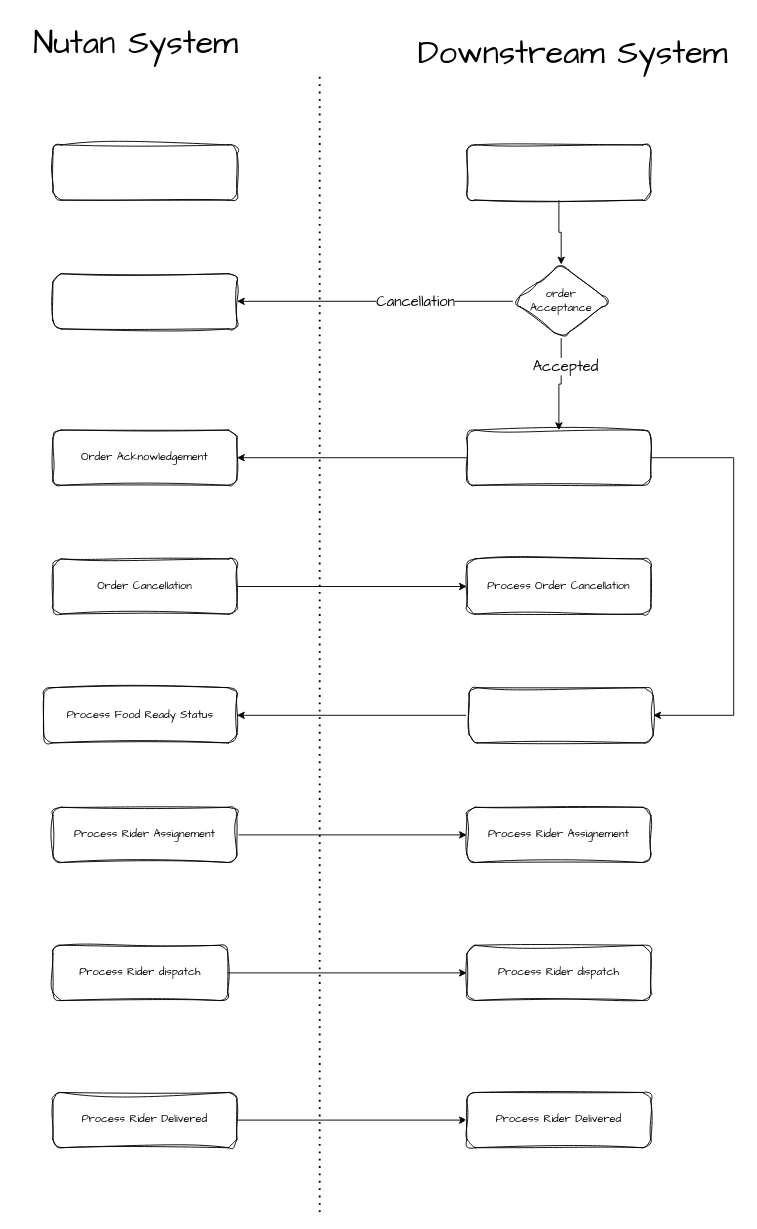
Image size: 757x1229. Some labels were removed from this diagram. The centre of each missing label's shape, as x and y in pixels:
Food ready: the point at 560,715
Order Cancel: the point at 144,301
Process New Order: the point at 558,172
Push New Order: the point at 144,172
Send Acknowledgement: the point at 558,457
